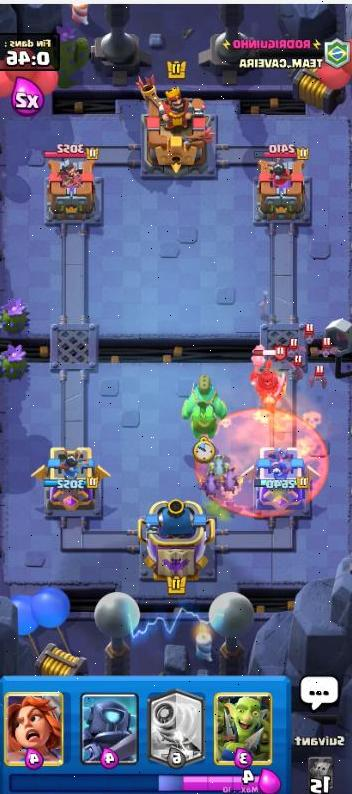enemy_bats: (308, 336, 344, 362), (306, 364, 333, 391), (287, 350, 309, 377)
enemy_dark_prince: (249, 342, 289, 414)
player_goblin_giant: (176, 375, 232, 462)
player_minions: (197, 470, 221, 499), (218, 465, 242, 494), (207, 454, 231, 473)
poison: (213, 409, 324, 515)
